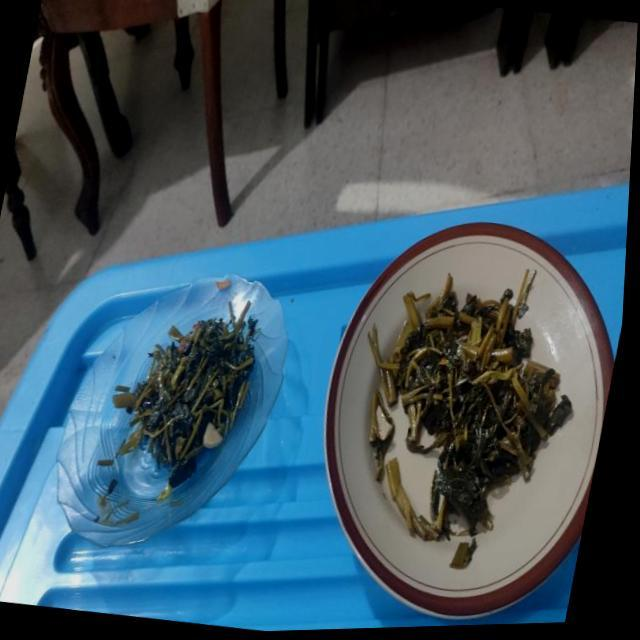tumis_kangkung: (370, 288, 572, 568), (130, 300, 260, 502)
